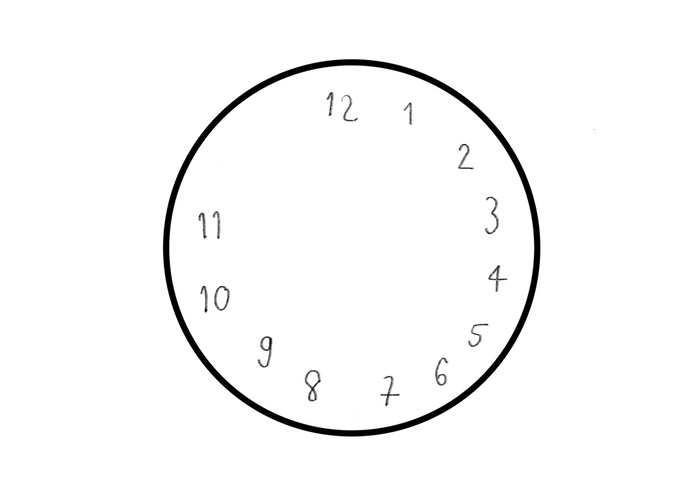eight: (302, 364, 323, 403)
eleven: (192, 203, 226, 243)
five: (468, 316, 489, 348)
four: (488, 260, 512, 296)
nine: (257, 331, 274, 369)
one: (399, 93, 419, 123)
seven: (375, 373, 400, 411)
six: (433, 353, 452, 385)
ten: (199, 284, 231, 316)
three: (479, 192, 504, 241)
twelve: (322, 88, 359, 124)
two: (455, 139, 476, 171)
